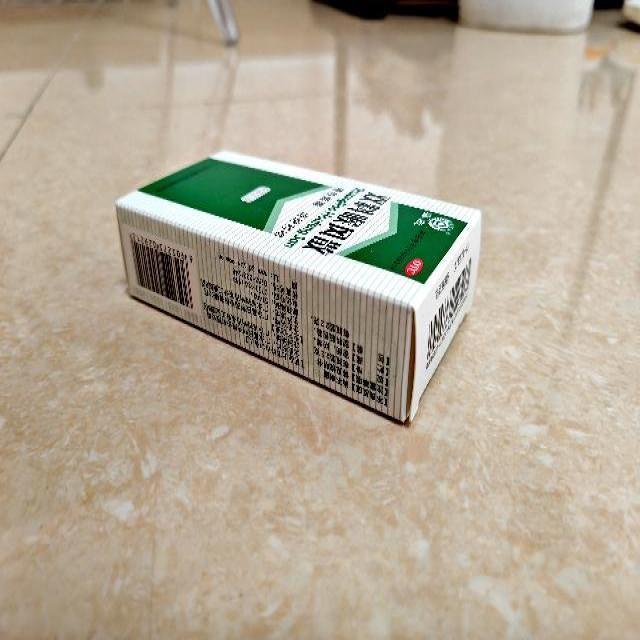box: (113, 147, 480, 426)
